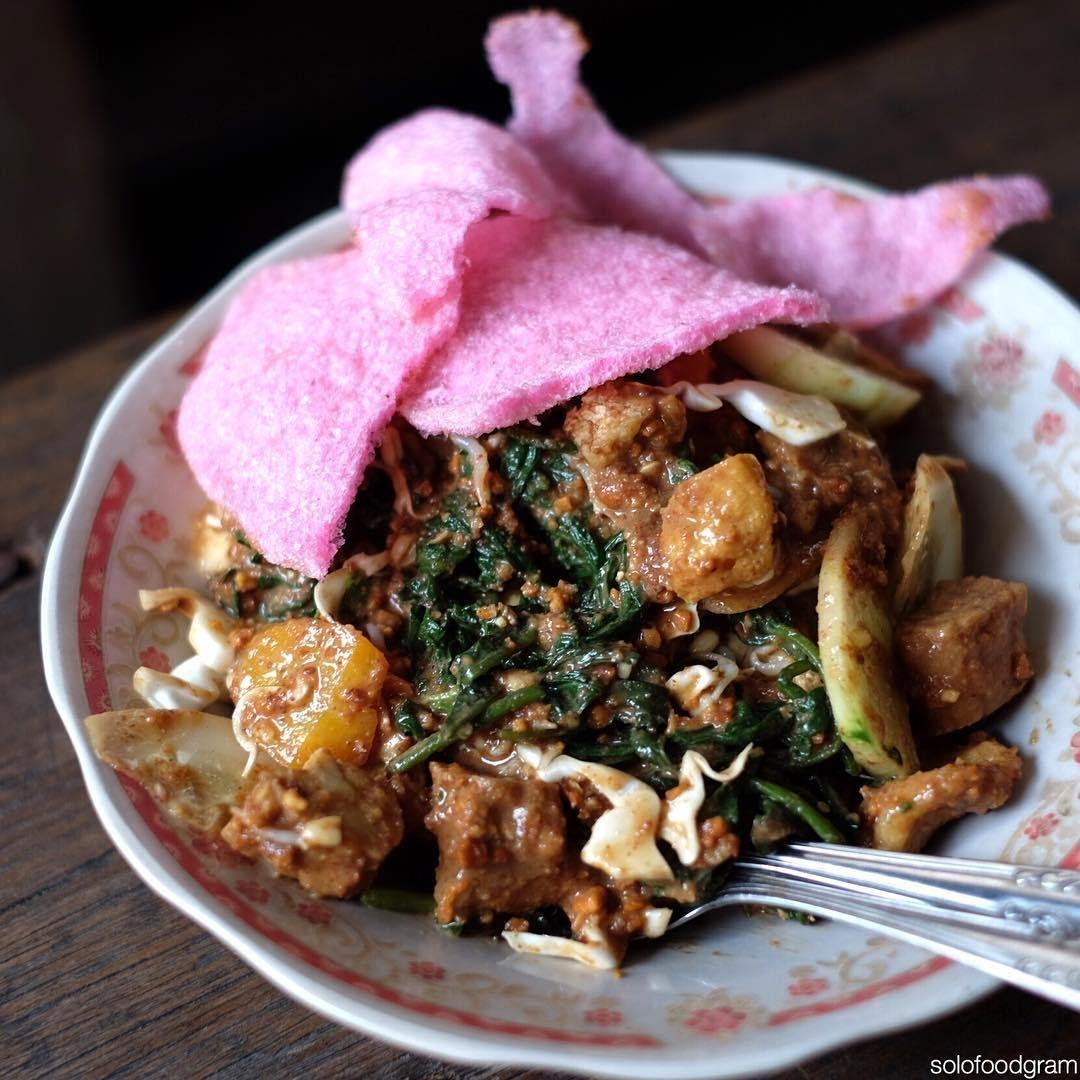rujak_cingur: (84, 10, 1038, 966)
